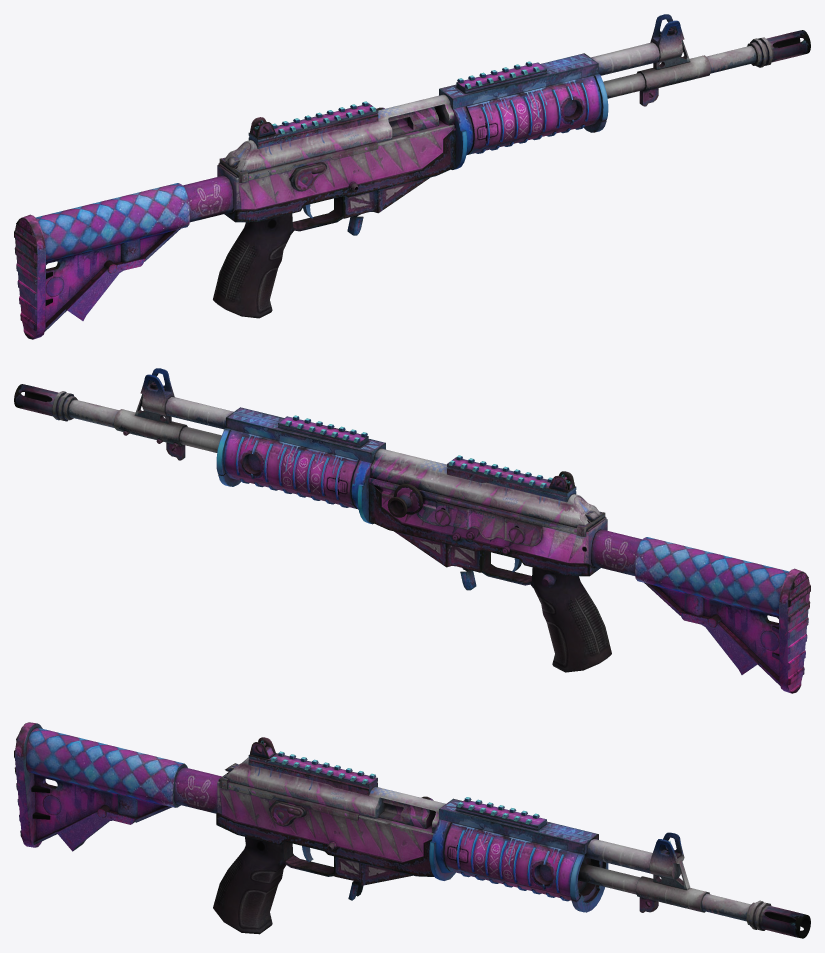
Rendered from w_assaultrifle_candychaos.glb.
The picture shows the model from 3 angles, top to bottom: view 1: azimuth 30°, elevation 25°; view 2: azimuth 150°, elevation 25°; view 3: azimuth 330°, elevation 25°; orthographic projection.
Parts seen in each view (by area): view 1: Gun_Root; view 2: Gun_Root; view 3: Gun_Root.
Part boxes in pixels (bbox=[...]): Gun_Root: bbox=[14, 14, 810, 339]; Gun_Root: bbox=[14, 368, 810, 693]; Gun_Root: bbox=[14, 722, 810, 938].
Size of the model in its own units: 0.8573 by 0.2015 by 0.0789.
Materials: 1 (1 with a texture image).
